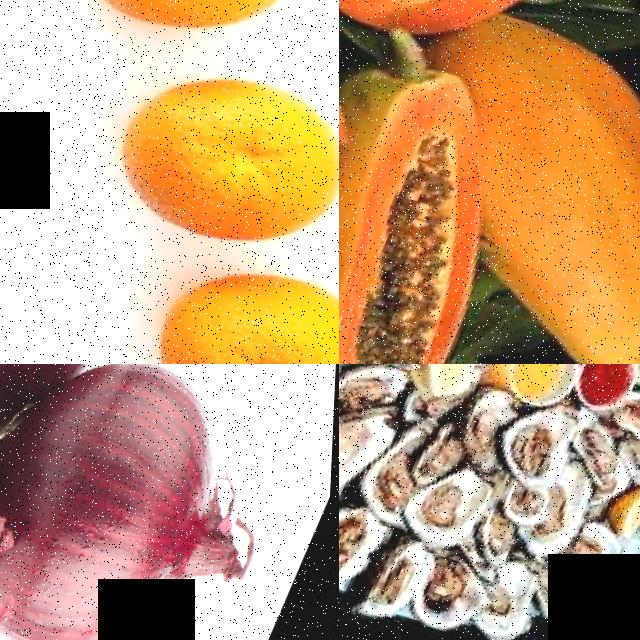lemon: (398, 364, 499, 416)
onion: (0, 364, 300, 640)
orange: (86, 31, 339, 298), (18, 0, 339, 92), (134, 241, 339, 364)
oysters: (405, 461, 501, 571), (339, 373, 398, 549), (492, 405, 589, 508), (529, 464, 611, 579), (361, 534, 446, 637), (412, 557, 498, 640), (339, 492, 397, 615)
pawpaw: (339, 60, 553, 364), (455, 45, 640, 364), (339, 0, 627, 71)
